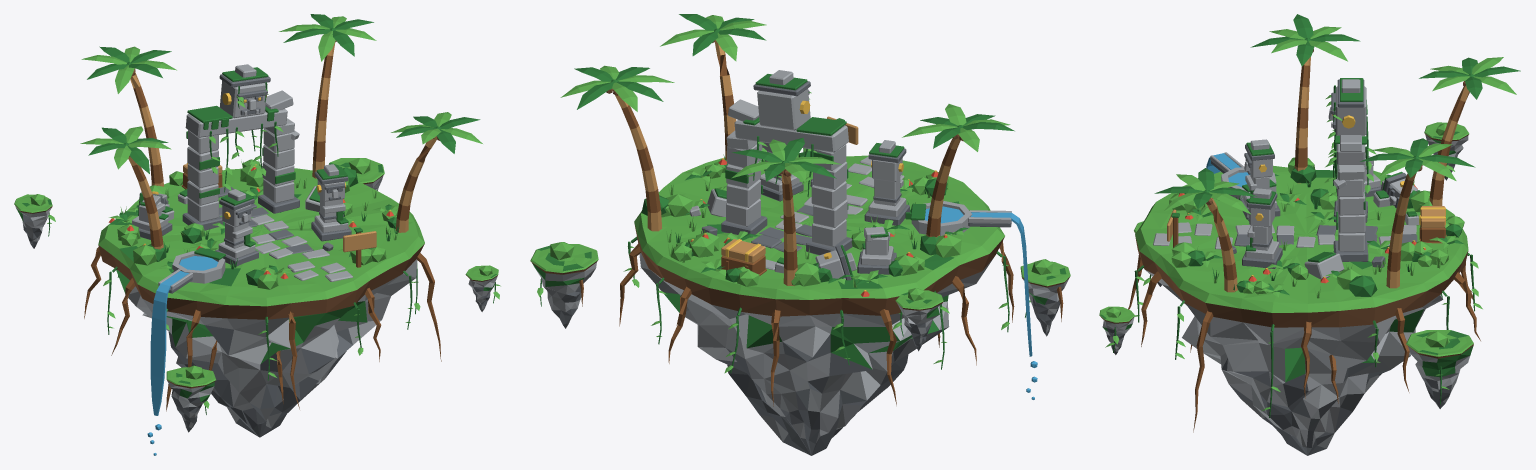
Rendered from jungle-ruins-sky-island.glb.
3 renders of one model, left to right at view 1: azimuth 30°, elevation 25°; view 2: azimuth 150°, elevation 25°; view 3: azimuth 270°, elevation 25°, orthographic. The views are drawn at different scales.
Visible parts, largest first — view 1: Island_Ground, Palm_Trees, Archway, Bushes, Stone_Path, Roots_Hanging, Water, Statue_Guardian_L, Statue_Guardian_R, FloatRock_3, Ferns_Grass, Fountain_Basin (+7 smaller); view 2: Island_Ground, Palm_Trees, Archway, Bushes, FloatRock_1, Roots_Hanging, Statue_Guardian_L, Ferns_Grass, Stone_Path, FloatRock_3, Fountain_Basin, FloatRock_2 (+7 smaller); view 3: Island_Ground, Palm_Trees, Archway, Bushes, FloatRock_1, Roots_Hanging, Stone_Path, Ferns_Grass, Statue_Guardian_R, Statue_Guardian_L, Vines_Hanging, Rubble (+8 smaller).
Boxes of the visible parts, x1,y1,x2,y2 form: Island_Ground: (98,168,424,437); Palm_Trees: (80,14,482,260); Archway: (182,64,299,230); Bushes: (117,159,397,289); Stone_Path: (218,187,352,281); Roots_Hanging: (84,247,441,409); Water: (147,256,218,455); Statue_Guardian_L: (215,189,258,266); Statue_Guardian_R: (311,164,351,241); FloatRock_3: (166,367,215,432); Ferns_Grass: (109,160,399,275); Fountain_Basin: (158,247,225,293); Island_Ground: (634,153,1004,455); Palm_Trees: (560,14,1014,286); Archway: (721,70,852,255); Bushes: (641,148,961,286); FloatRock_1: (530,244,598,328); Roots_Hanging: (619,241,1014,406); Statue_Guardian_L: (864,140,909,225); Ferns_Grass: (666,154,968,287); Stone_Path: (751,156,904,269); FloatRock_3: (1020,261,1070,336); Fountain_Basin: (905,201,1011,236); FloatRock_2: (895,290,943,351); Island_Ground: (1135,165,1468,455); Palm_Trees: (1154,14,1520,292); Archway: (1328,78,1368,261); Bushes: (1169,157,1464,296); FloatRock_1: (1406,330,1473,408); Roots_Hanging: (1128,253,1480,432); Stone_Path: (1153,222,1417,249); Ferns_Grass: (1186,174,1463,298); Statue_Guardian_R: (1242,188,1282,268); Statue_Guardian_L: (1240,139,1280,219); Vines_Hanging: (1134,253,1482,417); Rubble: (1232,192,1419,279).
Bounding box in the file's own units: 40.24 × 37.49 × 38.06.
